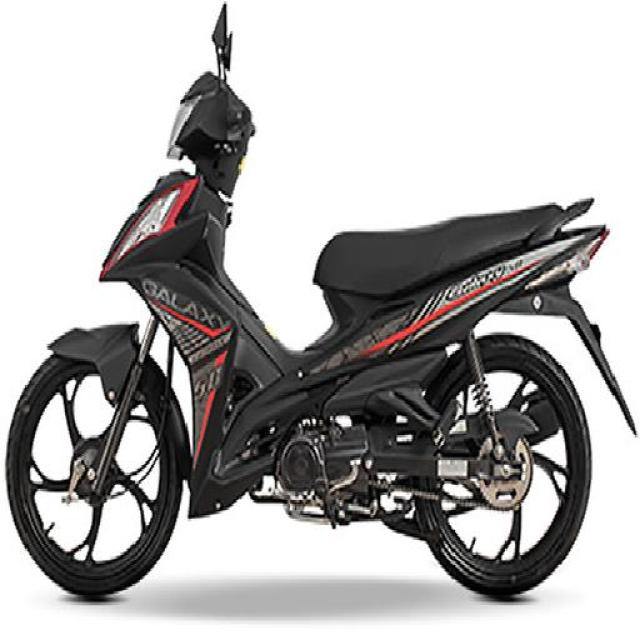All: (6, 10, 640, 602)
Head: (157, 64, 260, 171)
Tail: (518, 191, 614, 289)
